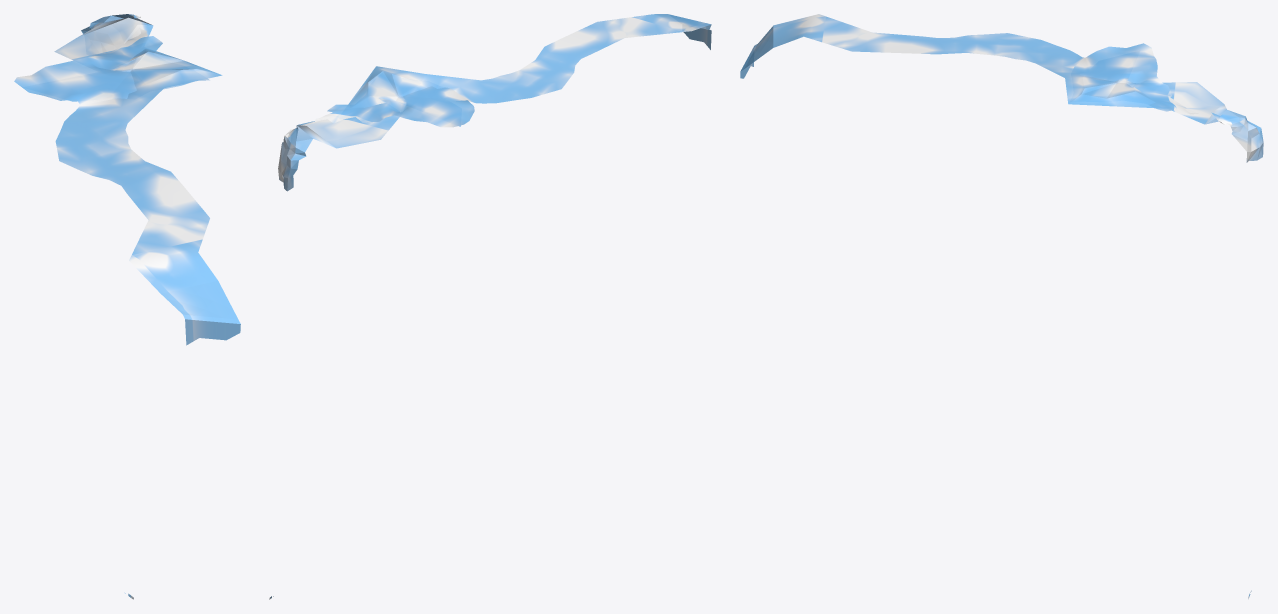
The model's file is riverTest.FBX.
The picture shows the model from 3 angles, left to right: view 1: azimuth 30°, elevation 25°; view 2: azimuth 150°, elevation 25°; view 3: azimuth 270°, elevation 25°; orthographic projection. The views are drawn at different scales.
Parts seen in each view (by area): view 1: Shape001; view 2: Shape001; view 3: Shape001.
Boxes of the visible parts, x1,y1,x2,y2 form: Shape001: (14, 14, 240, 599); Shape001: (269, 14, 711, 599); Shape001: (740, 14, 1263, 599).
Size of the model in its own units: 213 by 456 by 441.
